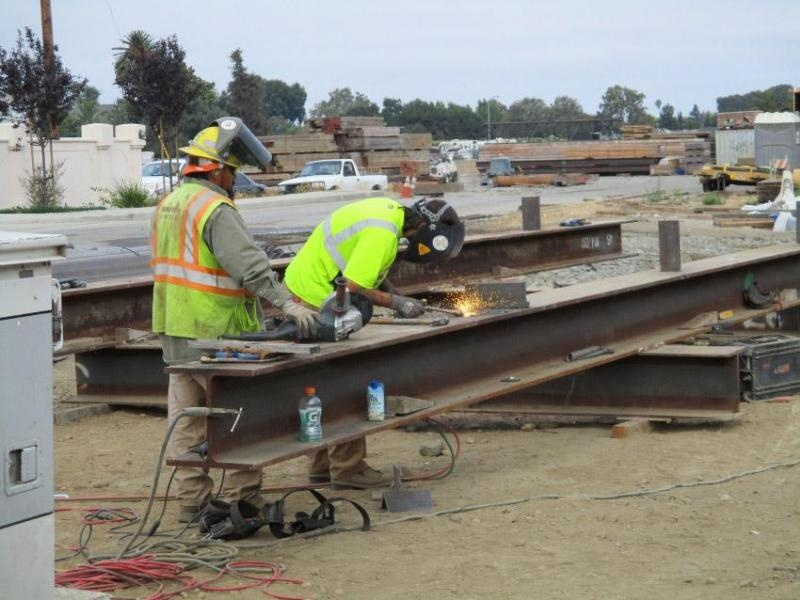none: (404, 196, 462, 258)
yellow: (186, 125, 247, 187)
